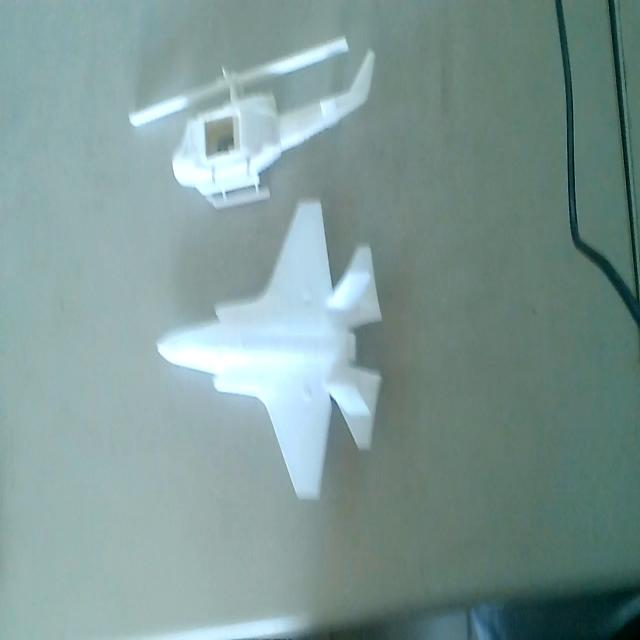Helicopter: (128, 32, 378, 211)
Jet: (156, 199, 388, 521)
